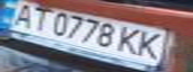0: (45, 10, 72, 37)
7: (63, 12, 87, 42), (78, 17, 100, 46)
8: (96, 20, 121, 51)
A: (3, 0, 42, 28)
K: (133, 29, 172, 61), (115, 25, 148, 57)
T: (21, 3, 54, 33)
